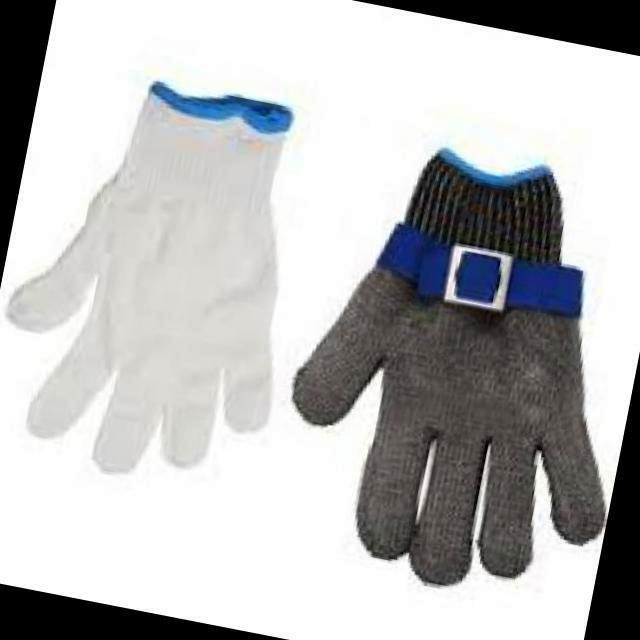Guantes: (402, 151, 573, 564), (125, 85, 278, 459)
